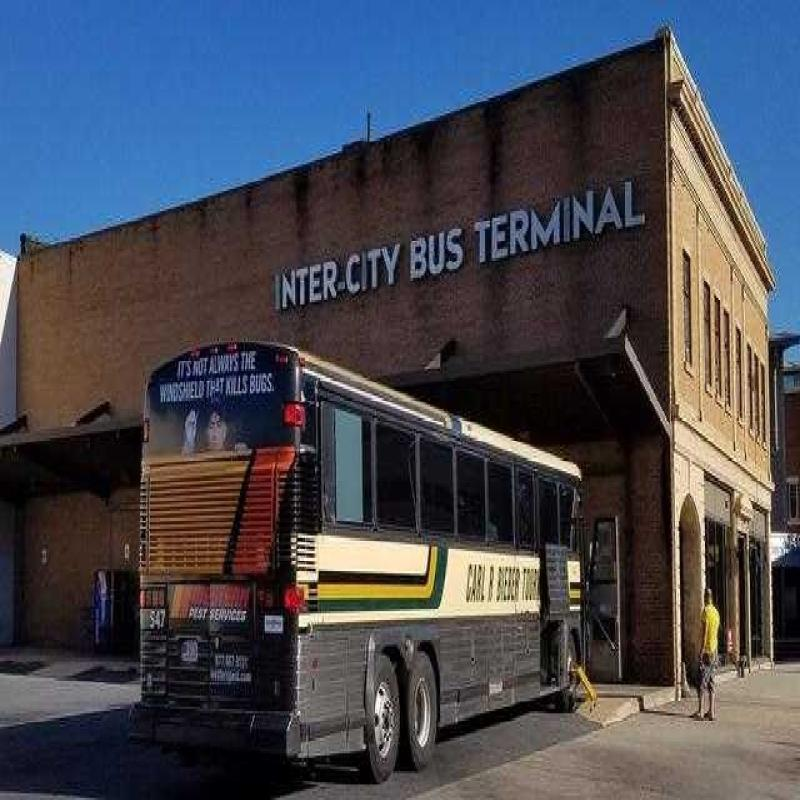bus: (136, 288, 664, 772)
